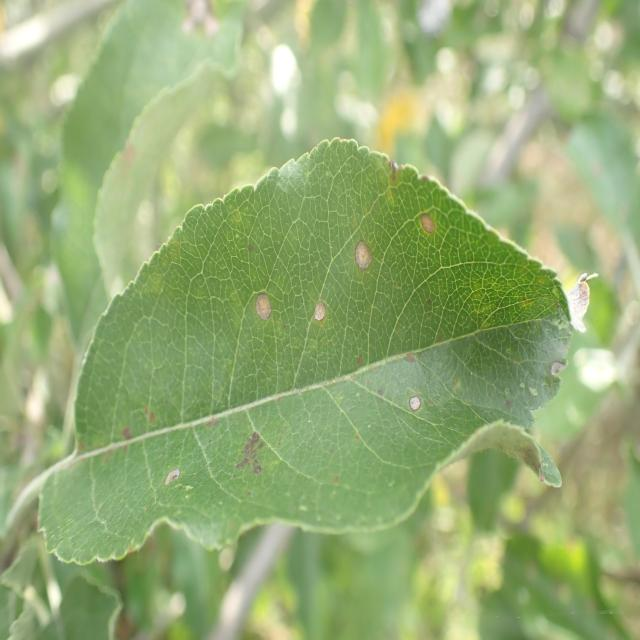frog-eye-leaf-spot: (38, 136, 600, 566)
